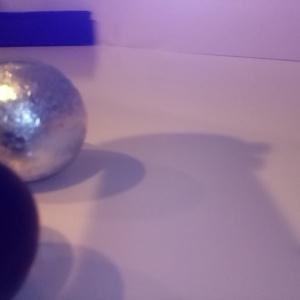alive_ball: (1, 56, 87, 184)
dead_ball: (1, 161, 39, 300)
